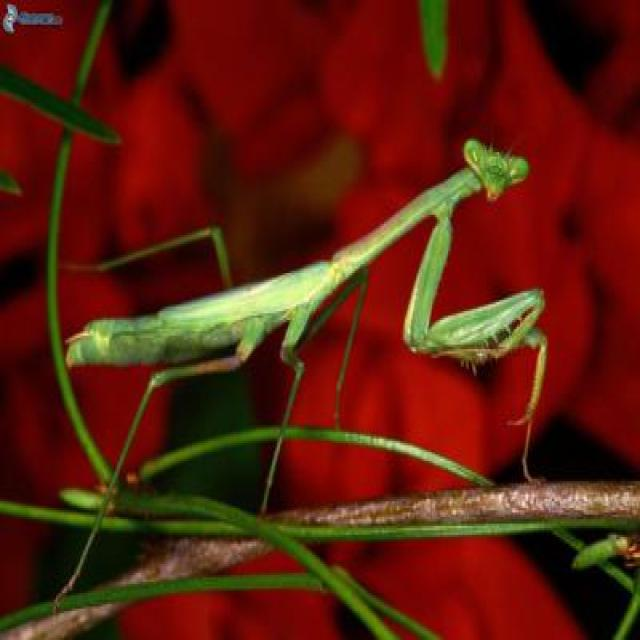body: (66, 140, 528, 370)
insect: (59, 135, 545, 598)
legs: (61, 322, 263, 594), (403, 208, 547, 490), (402, 216, 542, 362), (296, 265, 378, 430), (252, 302, 314, 520), (66, 226, 240, 292)
mouthpart: (481, 185, 506, 204)
wings: (77, 261, 336, 344)
